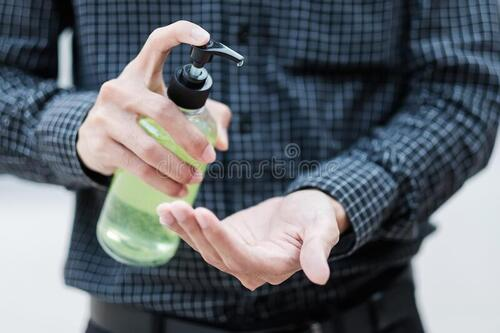sanitizer: (135, 36, 246, 204)
